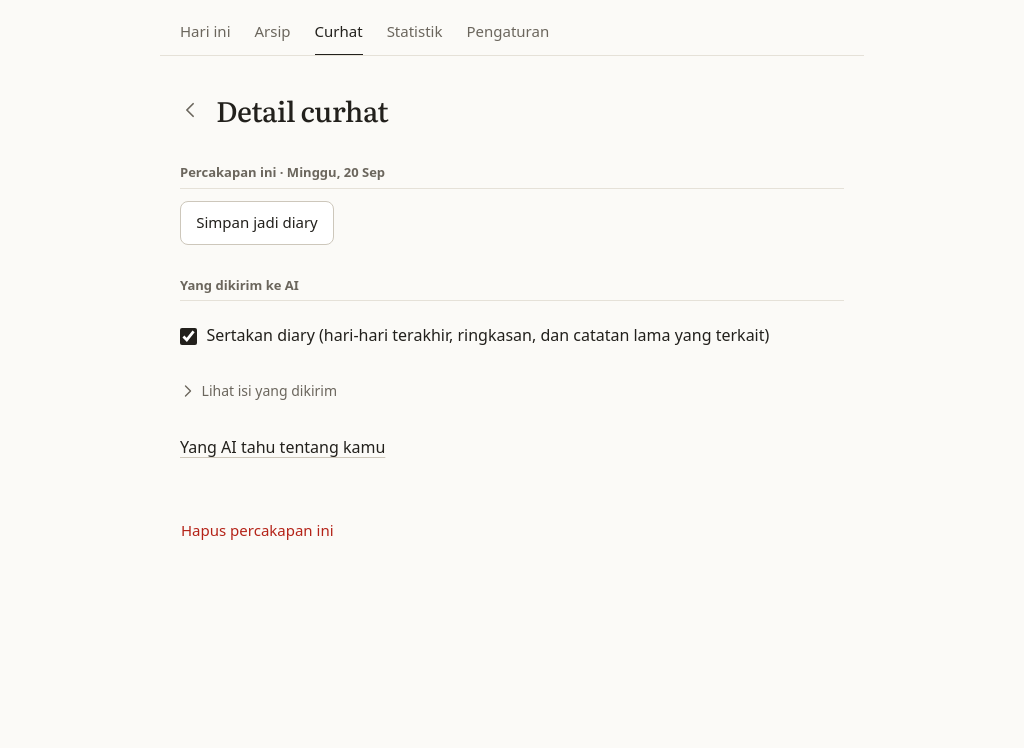
it: edited draft is appended with the checked mood and tag, then links to the day
This screenshot has width=1024, height=748.
Click the button "Simpan jadi diary" at (257, 223), box [180,201,334,245]
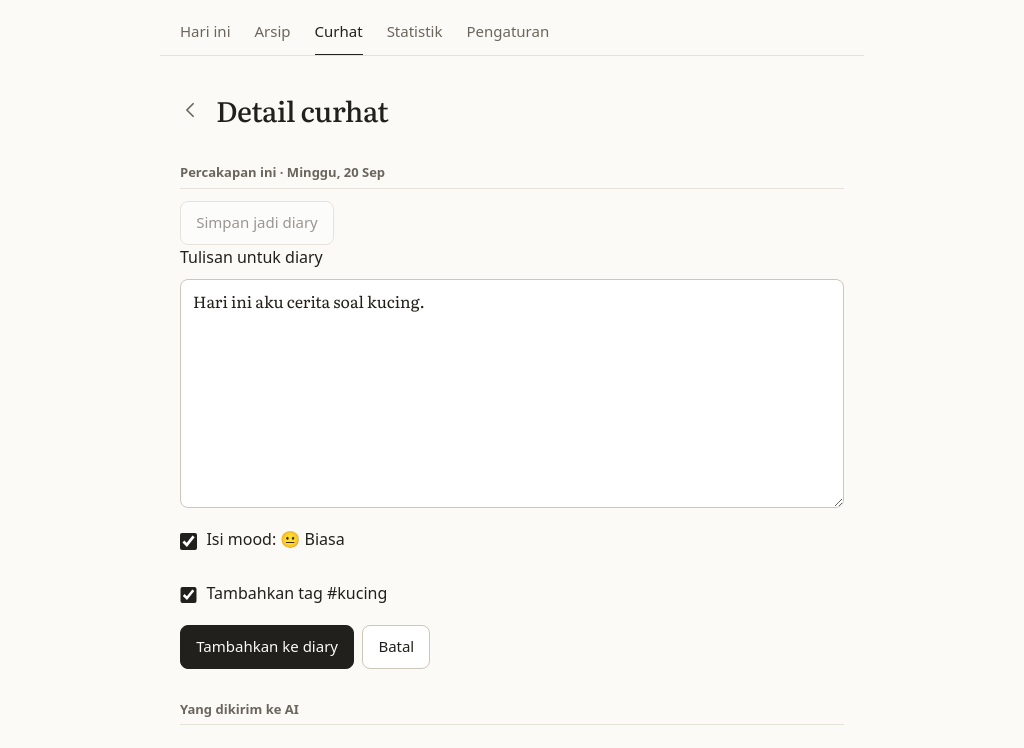
Now the text box labelled "Tulisan untuk diary" holds "Hari ini aku cerita soal kucing."
Now the checkbox labelled "Isi mood: 😐 Biasa" is checked, box [180,533,197,550]
Now the checkbox labelled "Tambahkan tag #kucing" is checked, box [180,587,197,603]
Note: A trailing new line must not push the tag line further down.
Replace the text in the text box labelled "Tulisan untuk diary" with "Hari ini aku cerita soal Mochi." at (512, 394), box [180,279,844,508]
Then press Enter
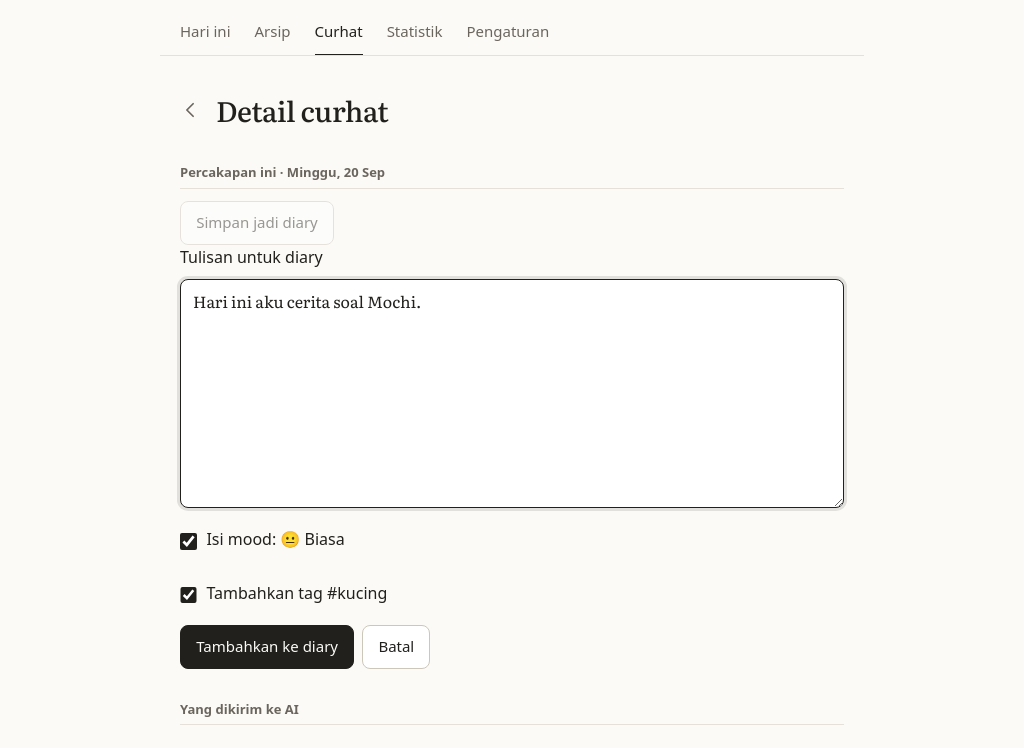
Click the button "Tambahkan ke diary" at (267, 647), box [180,625,354,669]
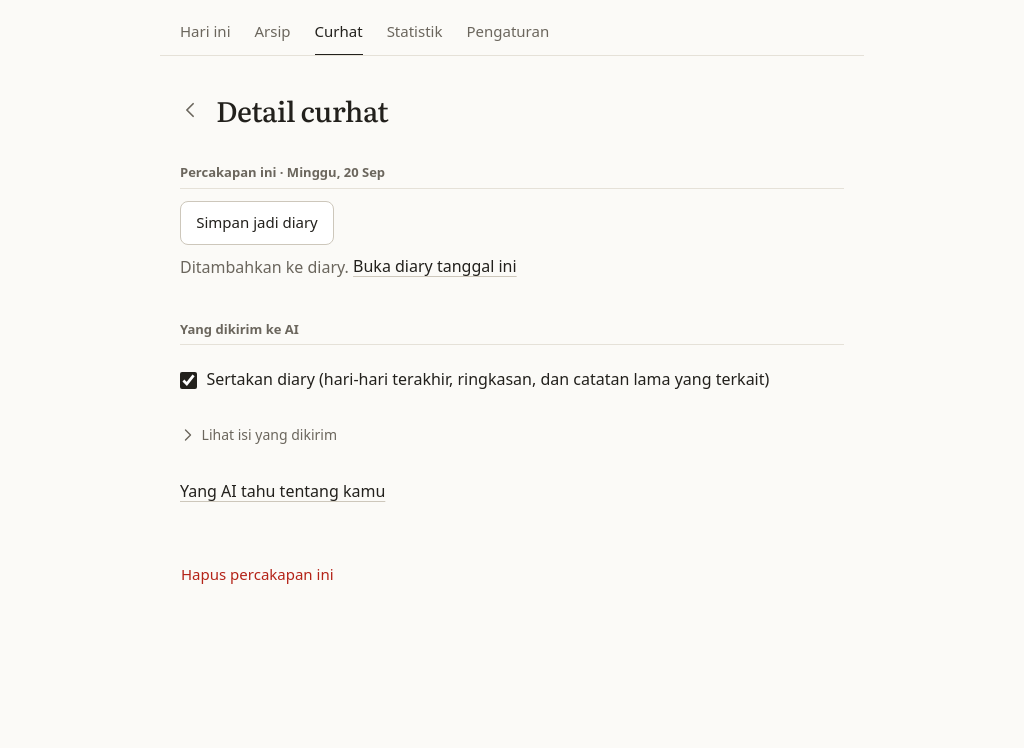
Now the message shows "Ditambahkan ke diary.", box [180,255,349,277]
Now the label "Tulisan untuk diary" is gone
